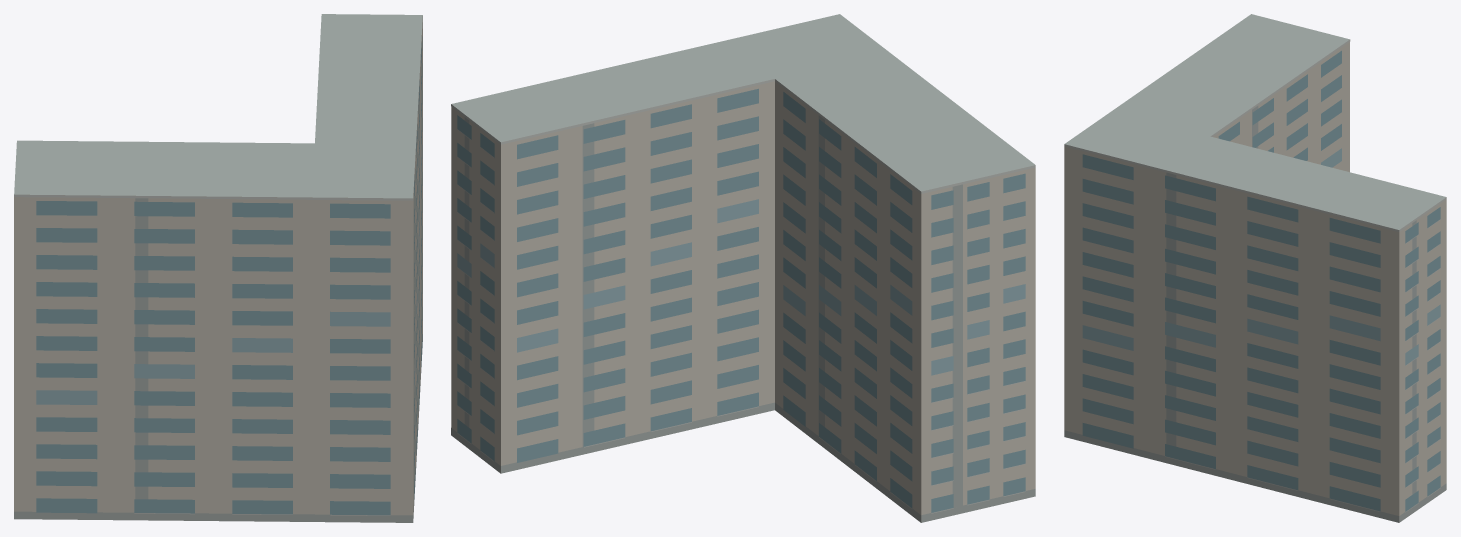
File: residential-ea2b146c-52fa-460a-adf9-4d7d5b7deb21.glb
3 renders of one model, left to right at view 1: azimuth 30°, elevation 25°; view 2: azimuth 150°, elevation 25°; view 3: azimuth 270°, elevation 25°, orthographic. The views are drawn at different scales.
Parts seen in each view (by area): view 1: residential-ea2b146c-52fa-460a-adf9-4d7d5b7deb21.tmp; view 2: residential-ea2b146c-52fa-460a-adf9-4d7d5b7deb21.tmp; view 3: residential-ea2b146c-52fa-460a-adf9-4d7d5b7deb21.tmp.
Part boxes in pixels (<box>): residential-ea2b146c-52fa-460a-adf9-4d7d5b7deb21.tmp: <box>14,14,422,522</box>; residential-ea2b146c-52fa-460a-adf9-4d7d5b7deb21.tmp: <box>451,14,1035,522</box>; residential-ea2b146c-52fa-460a-adf9-4d7d5b7deb21.tmp: <box>1064,14,1446,522</box>.
Bounding box in the file's own units: 52.23 × 33 × 39.06.
